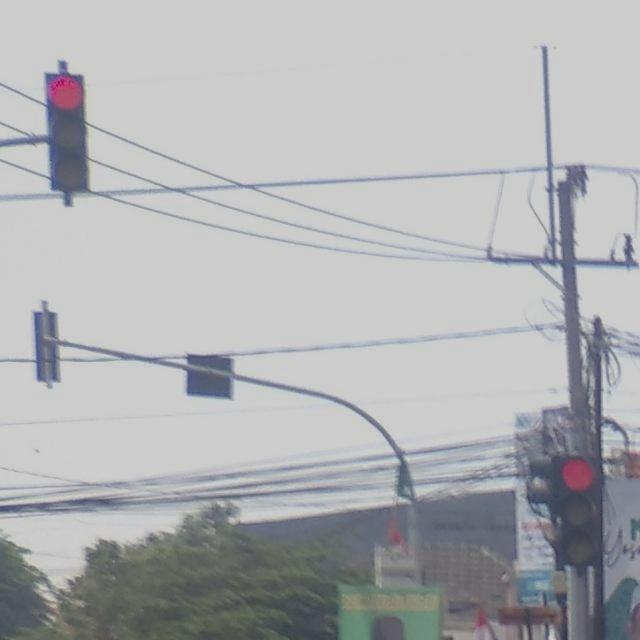Red: (41, 68, 96, 204)
